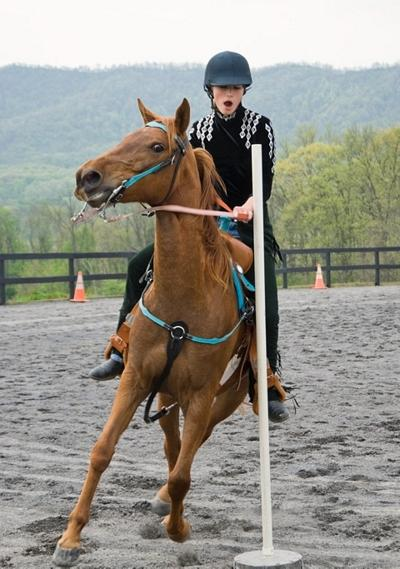person: (84, 48, 291, 426)
